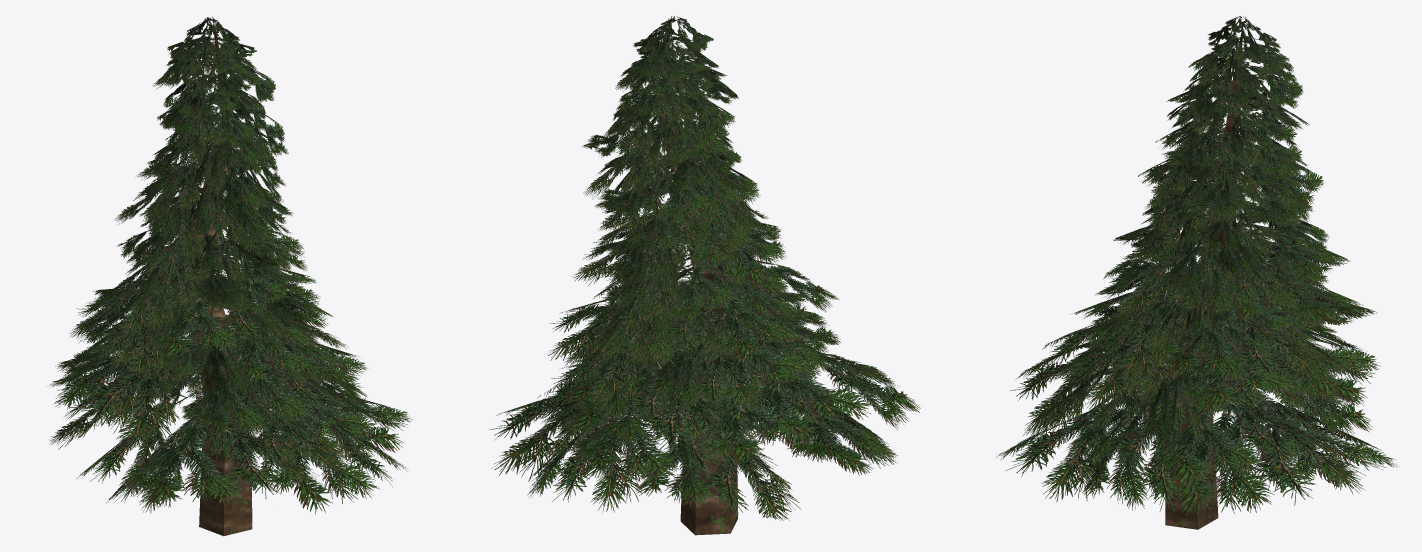
File: Tree.fbx
The picture shows the model from 3 angles, left to right: view 1: azimuth 30°, elevation 25°; view 2: azimuth 150°, elevation 25°; view 3: azimuth 270°, elevation 25°; orthographic projection. The views are drawn at different scales.
Visible parts, largest first — view 1: Tree_EXPORT; view 2: Tree_EXPORT; view 3: Tree_EXPORT.
Part boxes in pixels (x1=…): Tree_EXPORT: x1=47, y1=16, x2=413, y2=536; Tree_EXPORT: x1=489, y1=16, x2=920, y2=535; Tree_EXPORT: x1=997, y1=16, x2=1397, y2=529.
Bounding box in the file's own units: 2090 × 2871 × 2157.
